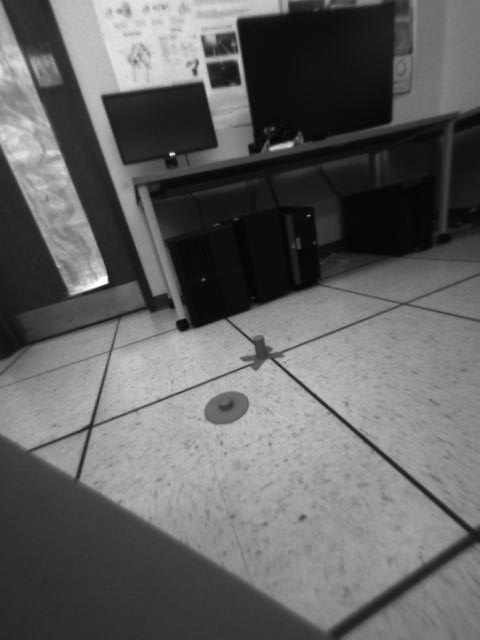X: (240, 335, 285, 372)
